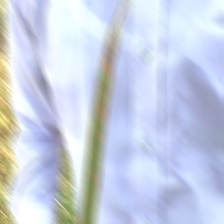Leaf_Blast: (90, 6, 126, 168)
